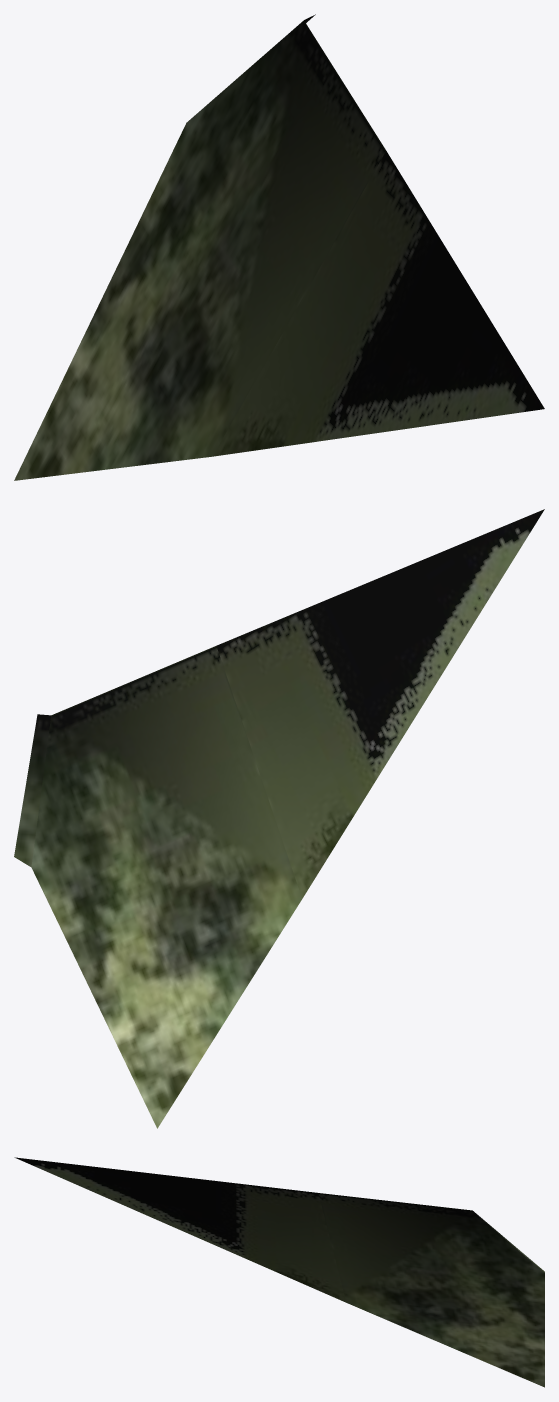
The picture shows the model from 3 angles, top to bottom: view 1: azimuth 30°, elevation 25°; view 2: azimuth 150°, elevation 25°; view 3: azimuth 270°, elevation 25°; orthographic projection. The views are drawn at different scales.
Size of the model in its own units: 1.31 by 2.46 by 5.15.
Materials: 1 (1 with a texture image).
